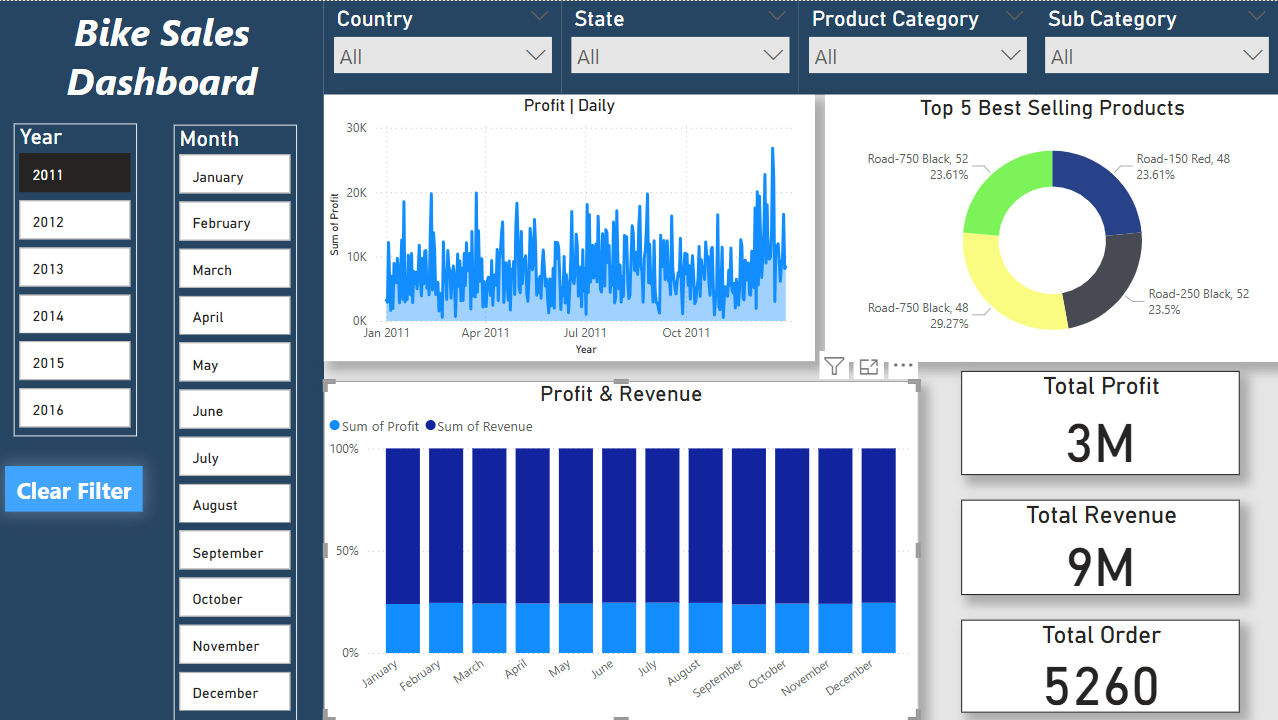

The dashboard page shown, as its layout file describes it:
{"tool":"powerbi","page":{"name":"Page 1","canvas":[1280,720],"ordinal":0},"visuals":[{"type":"textbox","box":[0,0,323.8,720.4],"z":0},{"type":"slicer","fields":{"Values":["BikeSales.Country"]},"box":[323.8,0,237.7,93.3],"z":0,"group":"g1"},{"type":"slicer","title":"Product Category","fields":{"Values":["BikeSales.Product_Category"]},"box":[799.3,0,237.7,93.3],"z":1000,"group":"g1"},{"type":"advancedSlicerVisual","fields":{"Values":["BikeSales.Date.Variation.Date Hierarchy.Year"]},"box":[13.7,122.1,123.5,312.9],"z":1000},{"type":"group","id":"g1","title":"Group 1","box":[323.8,0,955.2,93.8],"z":2000},{"type":"slicer","fields":{"Values":["BikeSales.State"]},"box":[561.5,0,237.7,93.3],"z":2000,"group":"g1"},{"type":"slicer","fields":{"Values":["BikeSales.Sub_Category"]},"box":[1035.2,0,243.8,93.8],"z":3000,"group":"g1"},{"type":"advancedSlicerVisual","fields":{"Values":["BikeSales.Date.Variation.Date Hierarchy.Month"]},"box":[174.3,123.5,123.5,596.9],"z":3000},{"type":"areaChart","title":"Profit | Daily","fields":{"Y":["Sum(BikeSales.Profit)"],"Category":["BikeSales.Date.Variation.Date Hierarchy.Year","BikeSales.Date.Variation.Date Hierarchy.Quarter","BikeSales.Date.Variation.Date Hierarchy.Month","BikeSales.Date.Variation.Date Hierarchy.Day"]},"box":[323.8,93.8,491.2,266.2],"z":4000},{"type":"actionButton","box":[5.1,464.7,137.9,46],"z":5000},{"type":"donutChart","title":"Top 5 Best Selling Products","fields":{"Y":["BikeSales.Total Orders"],"Category":["BikeSales.Product"]},"box":[825,93.8,455,267.5],"z":6000},{"type":"hundredPercentStackedColumnChart","title":"Profit & Revenue ","fields":{"Y":["Sum(BikeSales.Profit)","Sum(BikeSales.Revenue)"],"Category":["BikeSales.Date.Variation.Date Hierarchy.Month"]},"box":[323.8,380,595,340],"z":7000},{"type":"card","title":"Total Profit","fields":{"Values":["BikeSales.Sum of Profit running total in Profit"]},"box":[961.2,370,278.8,103.8],"z":8000,"group":"g2"},{"type":"card","title":"Total Revenue","fields":{"Values":["BikeSales.Sum of Revenue running total in Revenue"]},"box":[961.2,498.8,278.8,95],"z":9000,"group":"g2"},{"type":"card","title":"Total Order","fields":{"Values":["BikeSales.Sum of Order_Quantity running total in Order_Quantity"]},"box":[961.2,618.8,278.8,92.5],"z":10000,"group":"g2"},{"type":"group","id":"g2","title":"Group 2","box":[961.2,370,278.8,341.2],"z":10001}]}

Visuals, with their boxes in screenshot pixels (x1, y1, x2, y2), scaled from the page's 1280x720 canvas onto the 1278x720 screenshot:
textbox: [0, 0, 323, 719]
slicer - BikeSales.Country: [323, 0, 561, 93]
"Product Category" slicer: [798, 0, 1035, 93]
advancedSlicerVisual - BikeSales.Date.Variation.Date Hierarchy.Year: [14, 122, 137, 435]
"Group 1" group: [323, 0, 1277, 94]
slicer - BikeSales.State: [561, 0, 798, 93]
slicer - BikeSales.Sub_Category: [1034, 0, 1277, 94]
advancedSlicerVisual - BikeSales.Date.Variation.Date Hierarchy.Month: [174, 124, 297, 719]
"Profit | Daily" areaChart: [323, 94, 814, 360]
actionButton: [5, 465, 143, 511]
"Top 5 Best Selling Products" donutChart: [824, 94, 1277, 361]
"Profit & Revenue " hundredPercentStackedColumnChart: [323, 380, 917, 719]
"Total Profit" card: [960, 370, 1238, 474]
"Total Revenue" card: [960, 499, 1238, 594]
"Total Order" card: [960, 619, 1238, 711]
"Group 2" group: [960, 370, 1238, 711]
